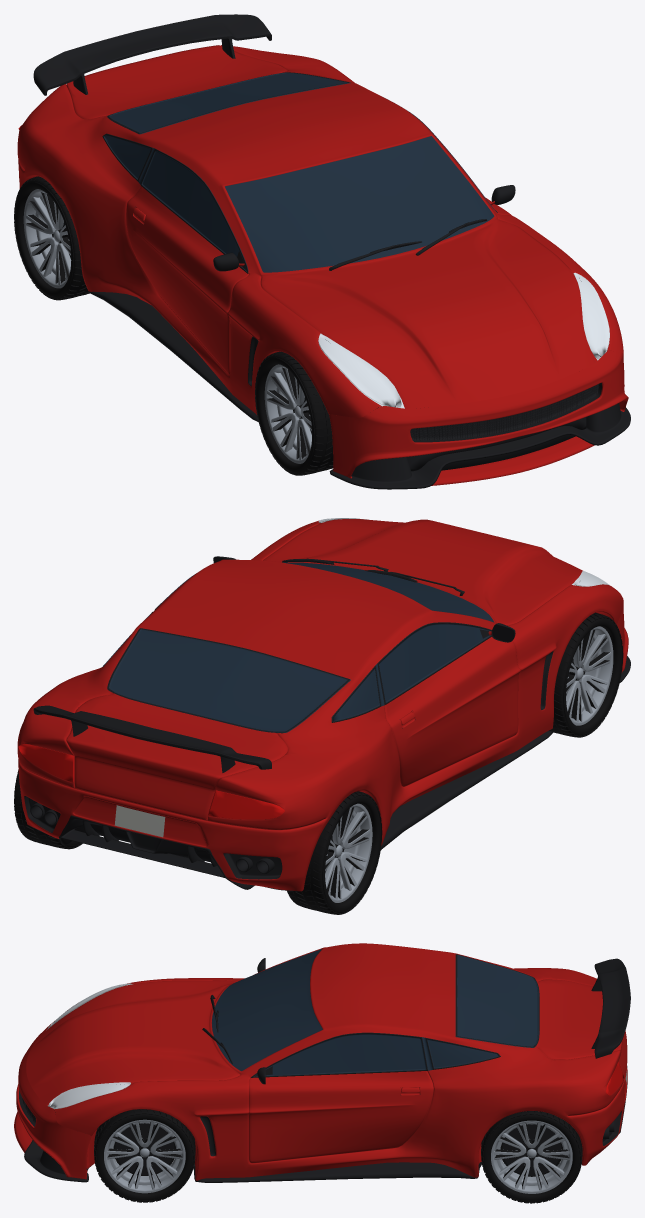
File: Sport.obj
The picture shows the model from 3 angles, top to bottom: view 1: azimuth 30°, elevation 25°; view 2: azimuth 150°, elevation 25°; view 3: azimuth 270°, elevation 25°; orthographic projection. The views are drawn at different scales.
Visible parts, largest first — view 1: RH_paint__8_front_glass.003_Plane.003, RH_glass__5_front_glass.003_Plane.003, RH_trim__4_front_glass.003_Plane.003, RH_trim__20_Plane.014_Plane.038, RH_rubber__1_break_pad.004_Circle.001, RH_headlamp__7_front_glass.003_Plane.003, RH_rubber__18_break_pad.006_Circle.026, RH_alloy__2_break_pad.004_Circle.001, RH_alloy__19_break_pad.006_Circle.026, RH_trim__13_front_glass.003_Plane.003, RH_glass__3_front_glass.003_Plane.003; view 2: RH_paint__8_front_glass.003_Plane.003, RH_glass__5_front_glass.003_Plane.003, RH_trim__4_front_glass.003_Plane.003, RH_rubber__18_break_pad.006_Circle.026, RH_rubber__1_break_pad.004_Circle.001, RH_trim__20_Plane.014_Plane.038, RH_alloy__2_break_pad.004_Circle.001, RH_alloy__19_break_pad.006_Circle.026, RH_taillamp__6_front_glass.003_Plane.003, RH_glass__3_front_glass.003_Plane.003, RH_trim__14_front_glass.003_Plane.003, RH_plate__17_front_glass.003_Plane.003 (+1 smaller); view 3: RH_paint__8_front_glass.003_Plane.003, RH_glass__5_front_glass.003_Plane.003, RH_trim__4_front_glass.003_Plane.003, RH_rubber__21_break_pad.005_Circle.028, RH_rubber__23_break_pad.007_Circle.029, RH_alloy__22_break_pad.005_Circle.028, RH_alloy__24_break_pad.007_Circle.029, RH_trim__20_Plane.014_Plane.038, RH_trim__15_front_glass.003_Plane.003, RH_headlamp__7_front_glass.003_Plane.003, RH_glass__3_front_glass.003_Plane.003.
Part boxes in pixels (x1,y1,x2,y2): RH_paint__8_front_glass.003_Plane.003: [17, 45, 628, 485]; RH_glass__5_front_glass.003_Plane.003: [103, 73, 494, 272]; RH_trim__4_front_glass.003_Plane.003: [88, 72, 630, 489]; RH_trim__20_Plane.014_Plane.038: [33, 14, 271, 95]; RH_rubber__1_break_pad.004_Circle.001: [255, 351, 333, 475]; RH_headlamp__7_front_glass.003_Plane.003: [318, 272, 609, 408]; RH_rubber__18_break_pad.006_Circle.026: [14, 176, 90, 300]; RH_alloy__2_break_pad.004_Circle.001: [264, 364, 311, 463]; RH_alloy__19_break_pad.006_Circle.026: [23, 189, 71, 288]; RH_trim__13_front_glass.003_Plane.003: [410, 384, 598, 440]; RH_glass__3_front_glass.003_Plane.003: [105, 72, 497, 271]; RH_paint__8_front_glass.003_Plane.003: [17, 519, 628, 891]; RH_glass__5_front_glass.003_Plane.003: [109, 562, 493, 731]; RH_trim__4_front_glass.003_Plane.003: [24, 556, 630, 891]; RH_rubber__18_break_pad.006_Circle.026: [287, 791, 382, 914]; RH_rubber__1_break_pad.004_Circle.001: [550, 612, 623, 737]; RH_trim__20_Plane.014_Plane.038: [33, 705, 271, 772]; RH_alloy__2_break_pad.004_Circle.001: [566, 626, 613, 725]; RH_alloy__19_break_pad.006_Circle.026: [325, 803, 372, 902]; RH_taillamp__6_front_glass.003_Plane.003: [18, 744, 284, 819]; RH_glass__3_front_glass.003_Plane.003: [102, 574, 490, 733]; RH_trim__14_front_glass.003_Plane.003: [30, 557, 513, 874]; RH_plate__17_front_glass.003_Plane.003: [114, 805, 165, 837]; RH_paint__8_front_glass.003_Plane.003: [14, 943, 627, 1180]; RH_glass__5_front_glass.003_Plane.003: [212, 949, 538, 1076]; RH_trim__4_front_glass.003_Plane.003: [19, 954, 627, 1182]; RH_rubber__21_break_pad.005_Circle.028: [94, 1109, 195, 1202]; RH_rubber__23_break_pad.007_Circle.029: [481, 1111, 582, 1203]; RH_alloy__22_break_pad.005_Circle.028: [104, 1119, 185, 1193]; RH_alloy__24_break_pad.007_Circle.029: [491, 1120, 572, 1193]; RH_trim__20_Plane.014_Plane.038: [591, 958, 630, 1058]; RH_trim__15_front_glass.003_Plane.003: [115, 1123, 561, 1175]; RH_headlamp__7_front_glass.003_Plane.003: [46, 983, 132, 1109]; RH_glass__3_front_glass.003_Plane.003: [251, 954, 539, 1077].
Size of the model in its own units: 1.91 by 1.21 by 4.12.
